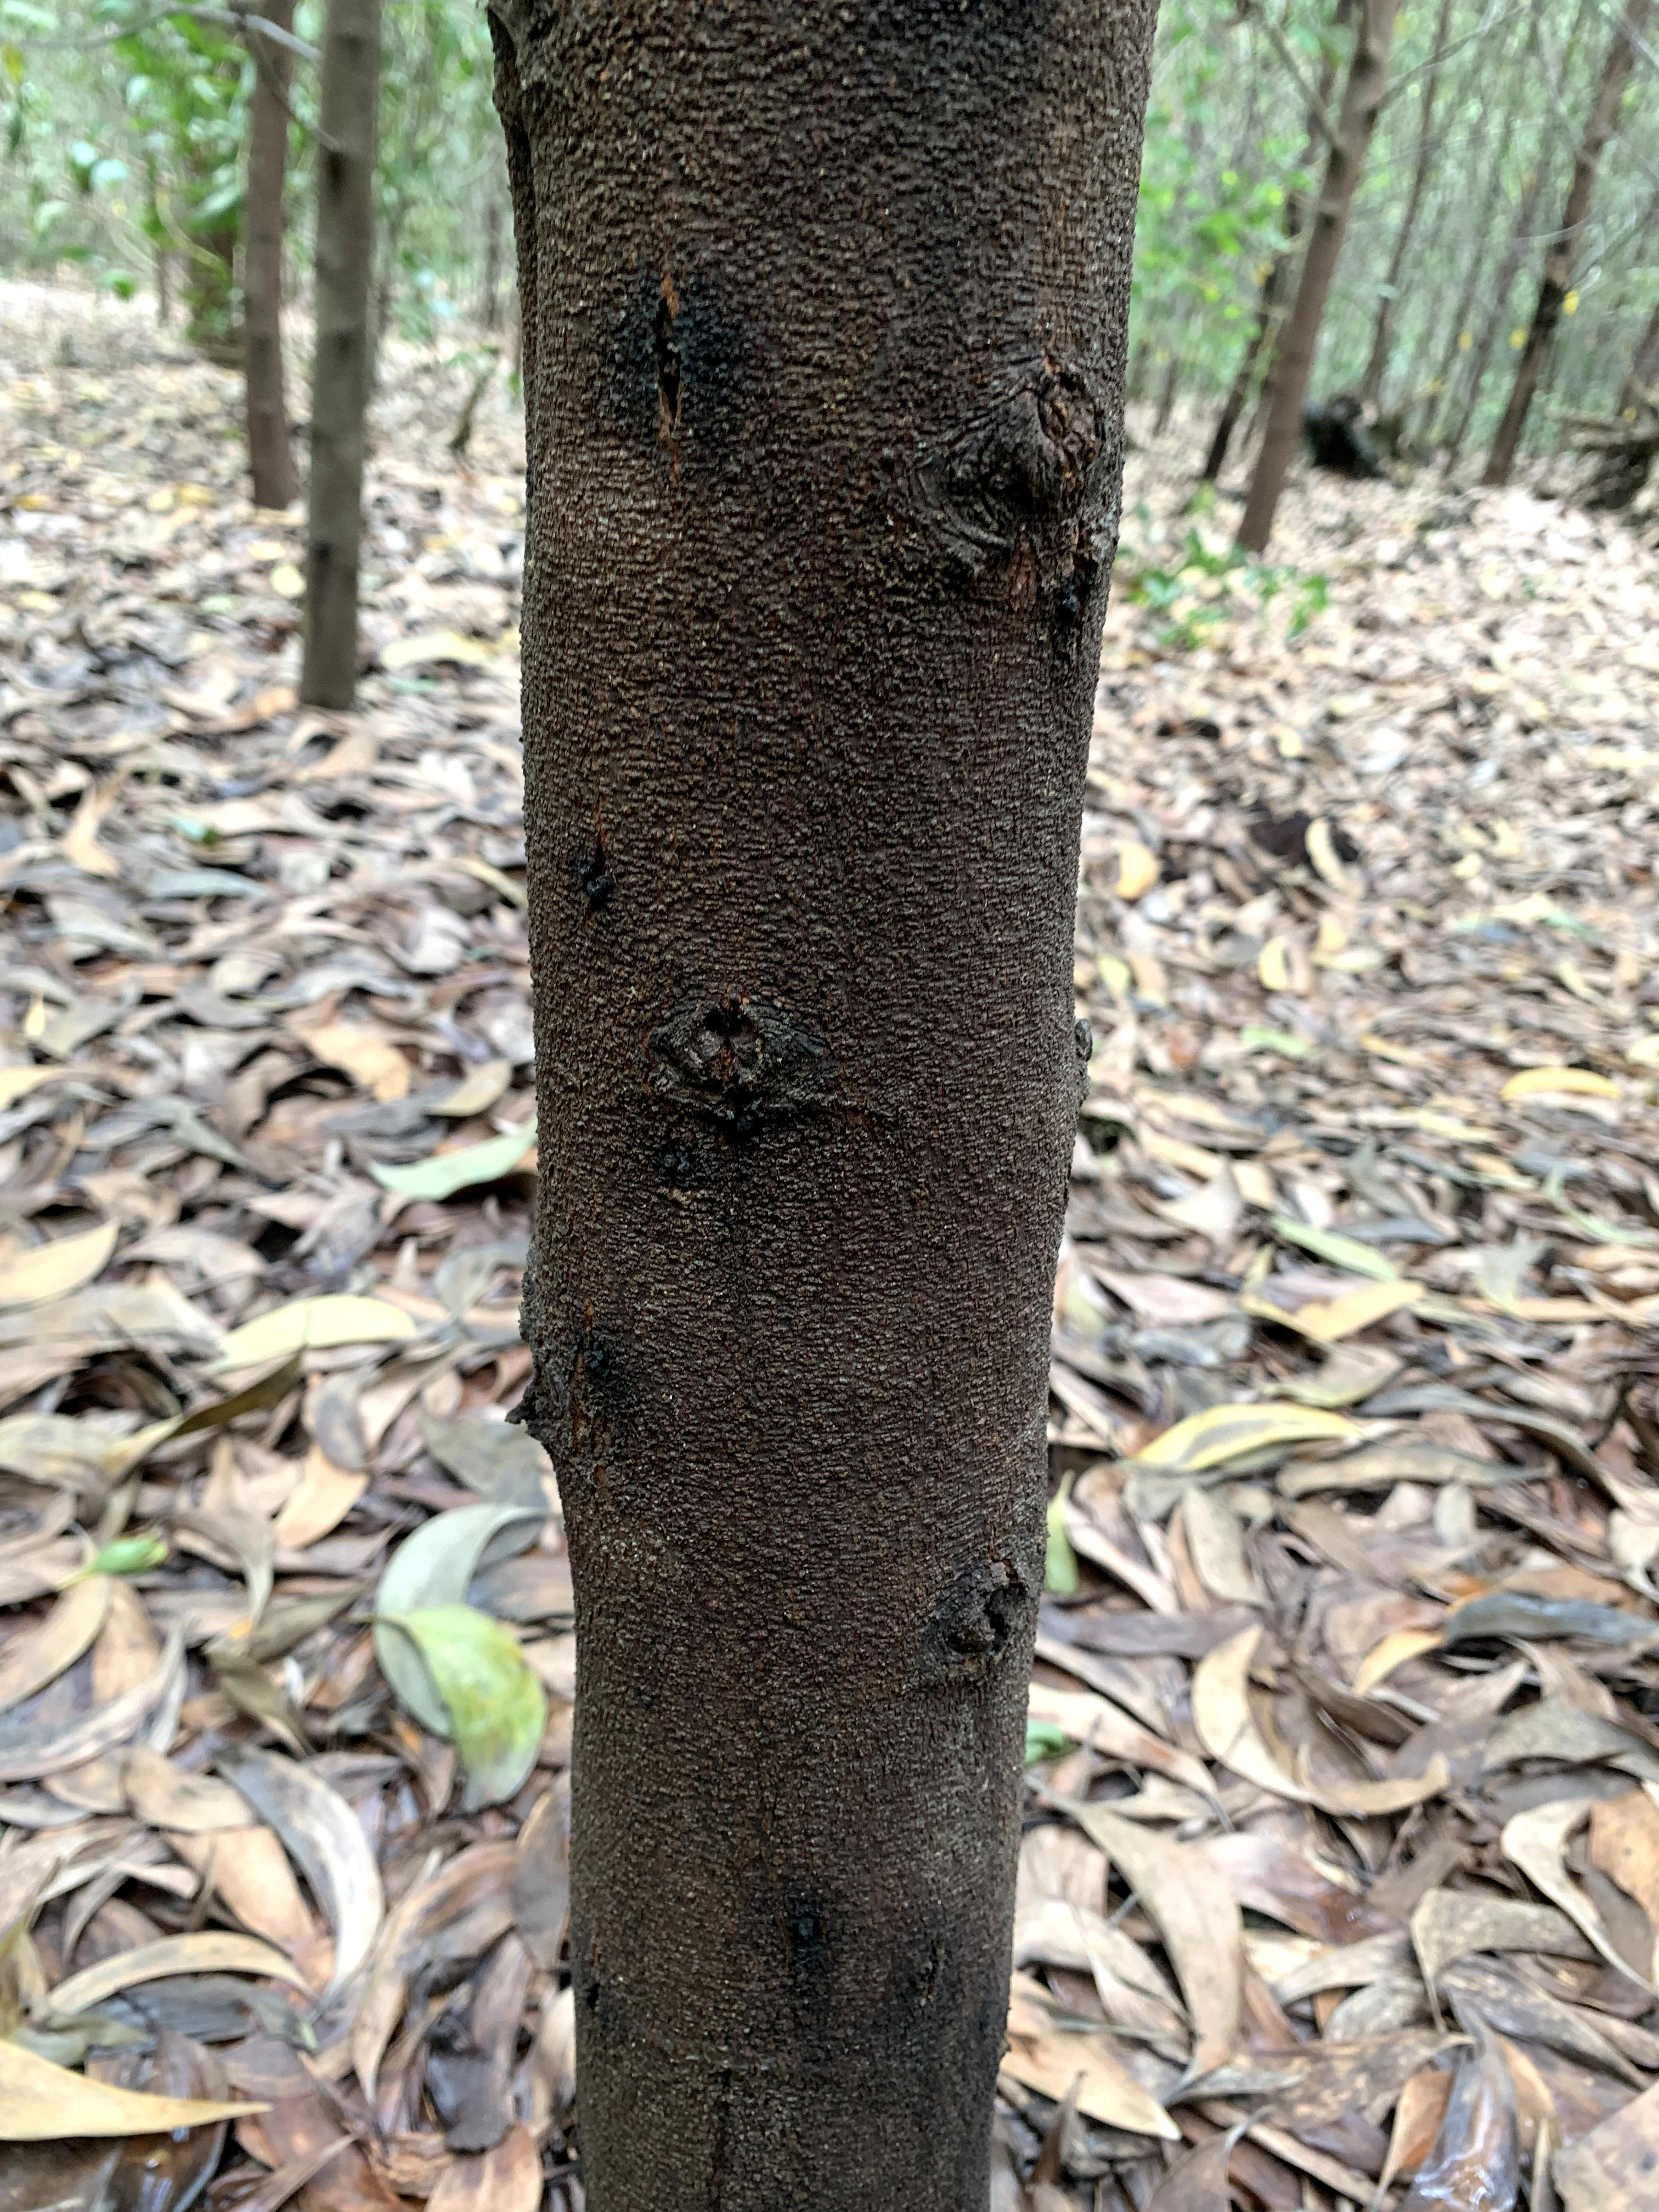Stem Borer: (925, 359, 1124, 669), (640, 953, 828, 1193), (589, 239, 767, 472), (525, 1292, 669, 1536), (948, 1547, 1060, 1756), (833, 0, 1061, 89), (741, 1851, 850, 1966), (903, 1932, 981, 2026)
